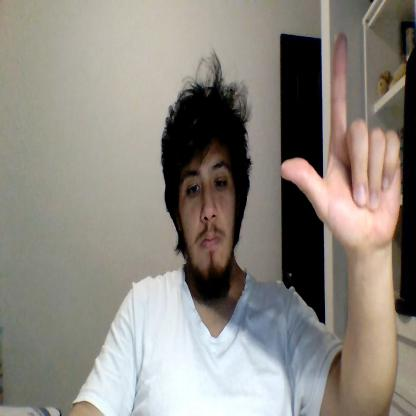L: (281, 31, 401, 249)
